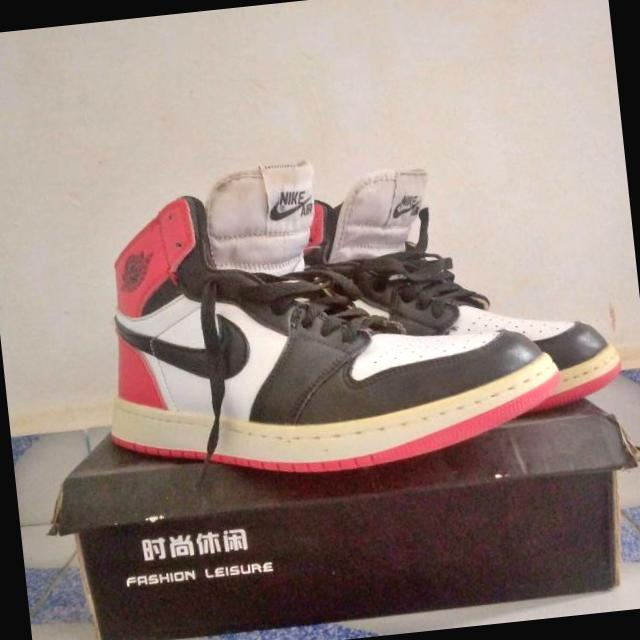nike_fake_jordan: (79, 132, 570, 498), (295, 148, 632, 434)
